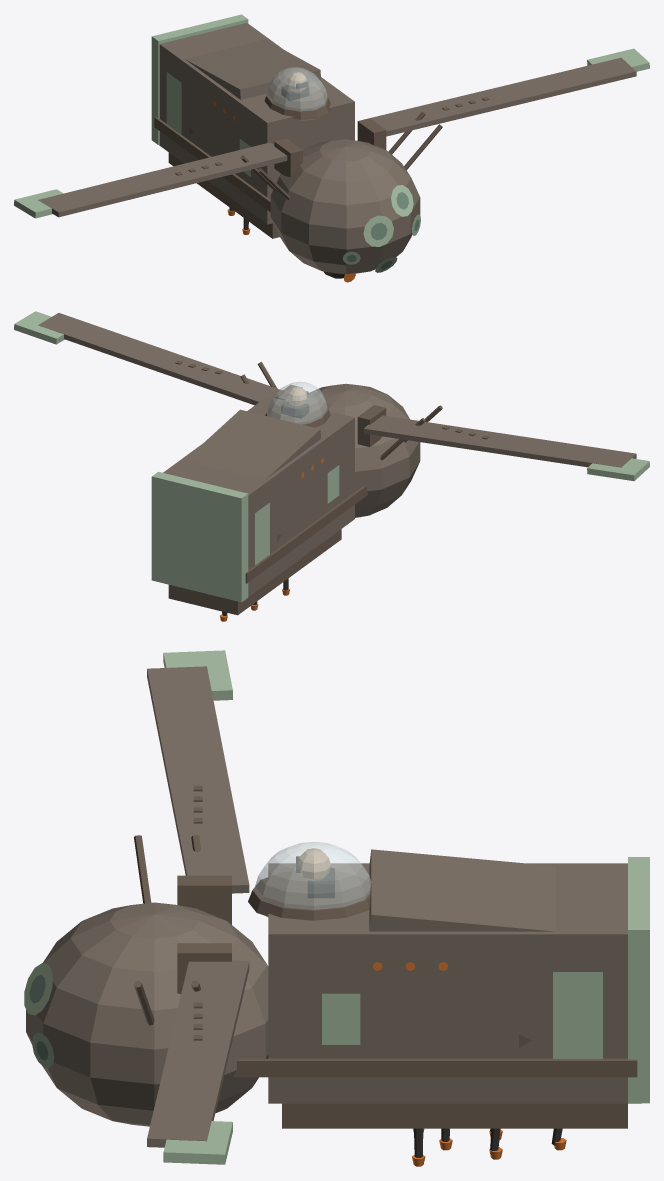
Rendered from gatePodCraft_pod-41-7.glb.
The picture shows the model from 3 angles, top to bottom: view 1: azimuth 30°, elevation 25°; view 2: azimuth 150°, elevation 25°; view 3: azimuth 270°, elevation 25°; orthographic projection. The views are drawn at different scales.
Parts seen in each view (by area): view 1: n1, n13, n45, n33, n15, n27, n19, n28, n21, n17, n23, n37 (+5 smaller); view 2: n13, n19, n1, n15, n45, n33, n17, n27, n21, n28, n35, n47 (+2 smaller); view 3: n13, n1, n15, n33, n45, n17, n22, n27, n19, n28, n25, n37 (+6 smaller).
Part boxes in pixels (bbox=[...]): n1: bbox=[270, 139, 420, 274]; n13: bbox=[159, 23, 354, 224]; n45: bbox=[370, 57, 636, 136]; n33: bbox=[38, 142, 287, 217]; n15: bbox=[185, 39, 320, 99]; n27: bbox=[267, 67, 327, 120]; n19: bbox=[151, 14, 248, 144]; n28: bbox=[264, 83, 330, 119]; n21: bbox=[154, 117, 270, 211]; n17: bbox=[168, 152, 279, 238]; n23: bbox=[166, 72, 181, 134]; n37: bbox=[274, 138, 302, 177]; n13: bbox=[163, 396, 354, 596]; n19: bbox=[151, 471, 248, 602]; n1: bbox=[307, 383, 420, 517]; n15: bbox=[185, 409, 320, 479]; n45: bbox=[38, 313, 282, 405]; n33: bbox=[363, 415, 636, 467]; n17: bbox=[168, 529, 341, 615]; n27: bbox=[267, 381, 327, 424]; n21: bbox=[245, 486, 368, 583]; n28: bbox=[265, 397, 330, 427]; n35: bbox=[587, 458, 649, 481]; n47: bbox=[14, 311, 64, 344]; n13: bbox=[268, 863, 641, 1103]; n1: bbox=[26, 902, 268, 1126]; n15: bbox=[369, 849, 555, 931]; n33: bbox=[147, 666, 249, 893]; n45: bbox=[147, 960, 249, 1147]; n17: bbox=[282, 1103, 627, 1128]; n22: bbox=[232, 1058, 637, 1077]; n27: bbox=[255, 842, 371, 917]; n19: bbox=[628, 857, 649, 1103]; n28: bbox=[248, 871, 370, 920]; n25: bbox=[553, 972, 602, 1058]; n37: bbox=[177, 875, 231, 924].
Size of the model in its own units: 13.11 by 3.67 by 6.98.
